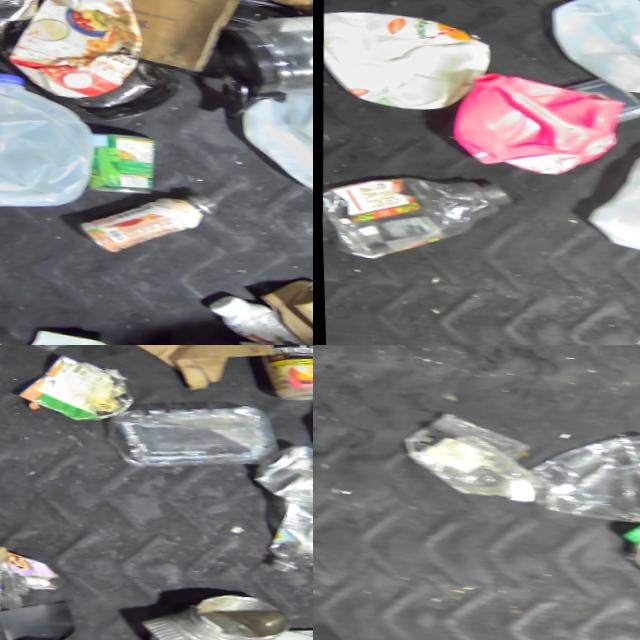can: (80, 128, 155, 189)
milk_jug: (0, 72, 92, 208), (581, 125, 640, 259), (558, 0, 640, 96), (251, 73, 313, 193)
non_white_jug: (460, 74, 619, 172)
plastic_bottle: (319, 165, 509, 260), (265, 463, 313, 568)
